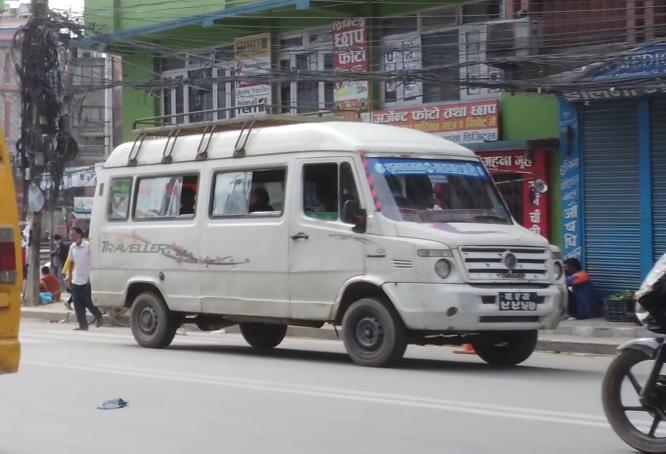bike: (601, 242, 666, 454)
micro_bus: (82, 112, 571, 371)
